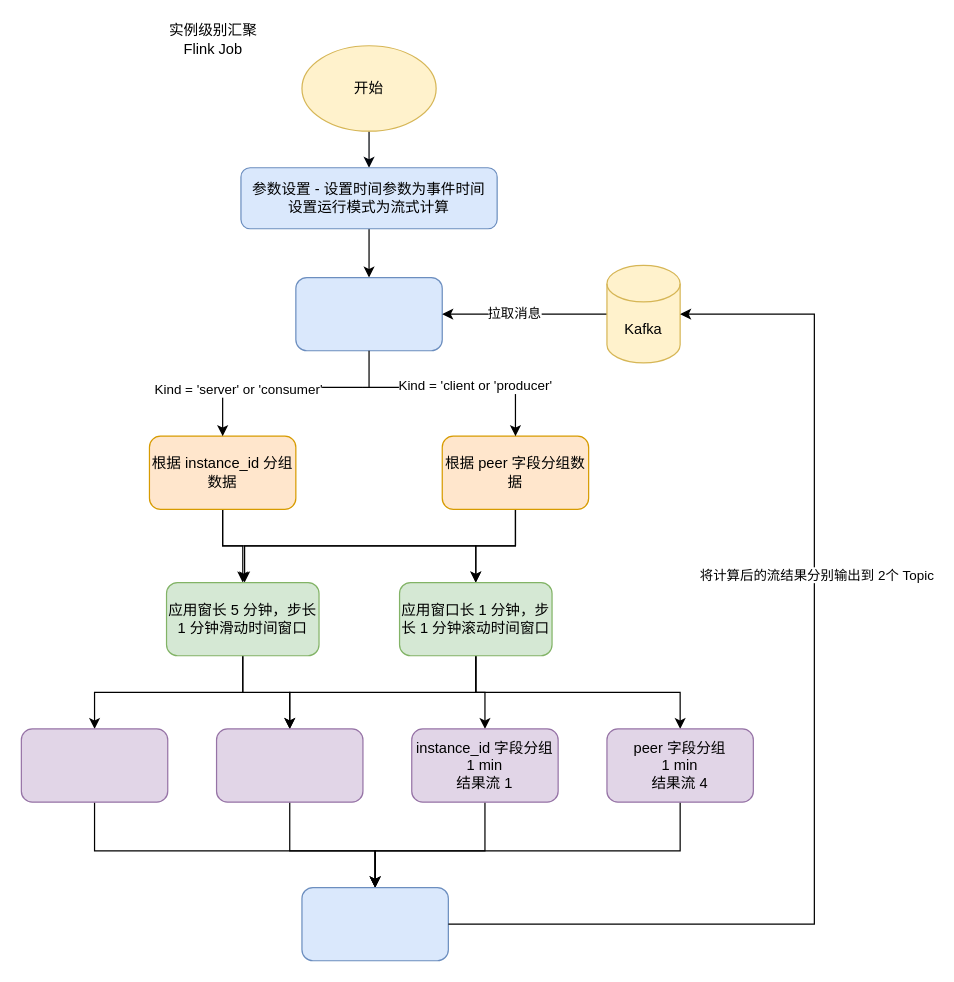
Some shapes in this 954 by 982 pixel diagram are drawn without their labels. The centre of each missing label's shape, as x and y in pixels:
"instance_id 字段分组 5 min 结果流 1" goes at [94,765].
"peer 字段分组 5 min 结果流 3" goes at [289,765].
"将消息转换成流" goes at [368,313].
"计算平均延时、请求数量、TP 指标等数据" goes at [374,923].
